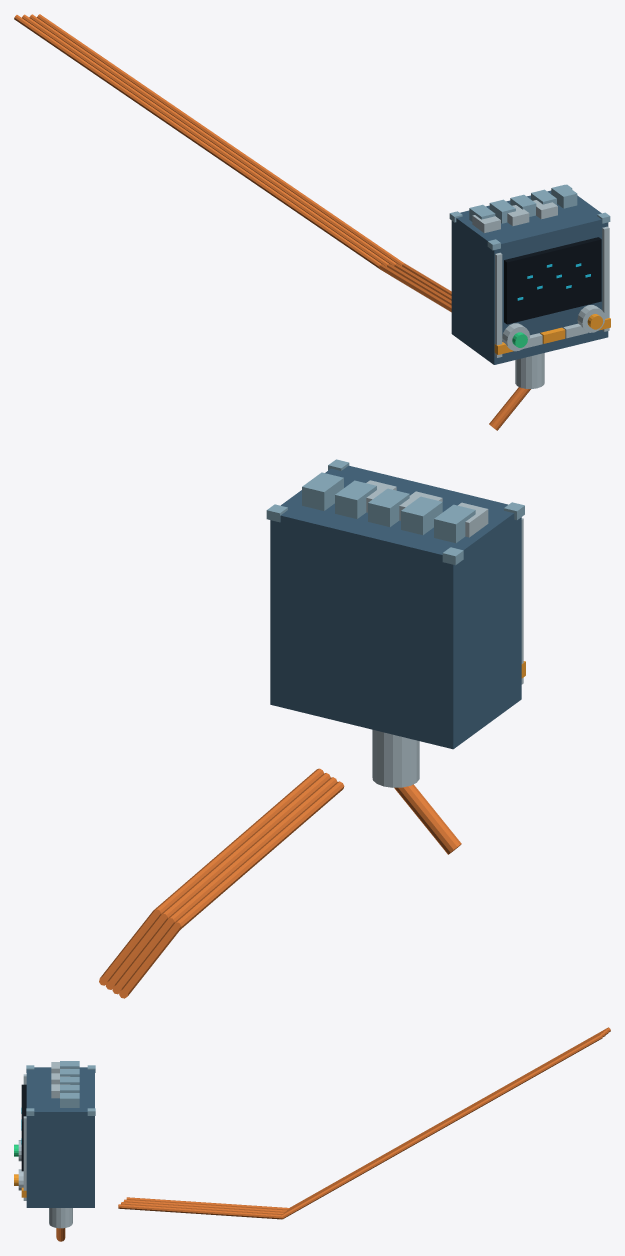
Rendered from 33_L72_WaferChuckTemperatureSensor.fbx.
3 views of the same model, one above another, from view 1: azimuth 30°, elevation 25°; view 2: azimuth 150°, elevation 25°; view 3: azimuth 270°, elevation 25° (orthographic). The views are drawn at different scales.
Parts seen in each view (by area): view 1: WaferChuckTemperatureSensor; view 2: WaferChuckTemperatureSensor; view 3: WaferChuckTemperatureSensor.
Boxes of the visible parts, box(x1,y1,x2,y2) form: WaferChuckTemperatureSensor: box(14, 14, 610, 430); WaferChuckTemperatureSensor: box(99, 459, 525, 998); WaferChuckTemperatureSensor: box(14, 1027, 610, 1241).
Size of the model in its own units: 91.32 by 81.38 by 252.
